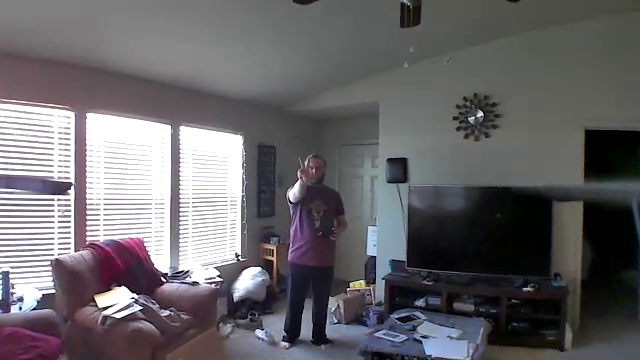peace: (293, 152, 313, 185)
